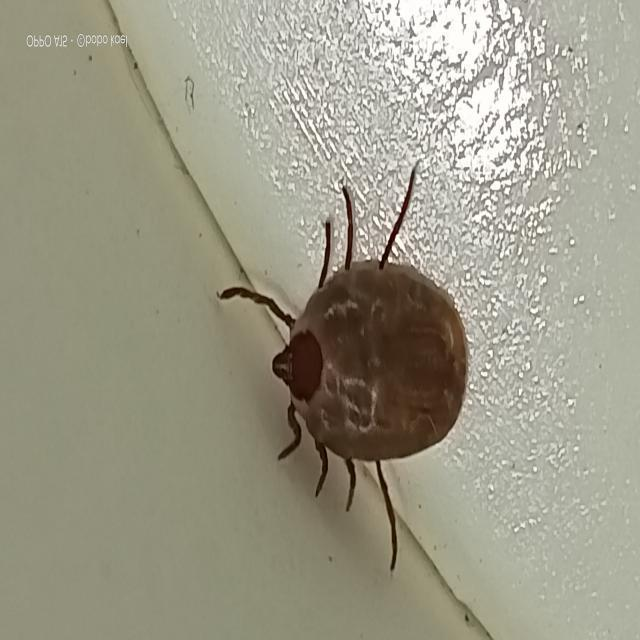Rhipicephalus Sanguineus-F-Fed: (216, 165, 469, 574)
